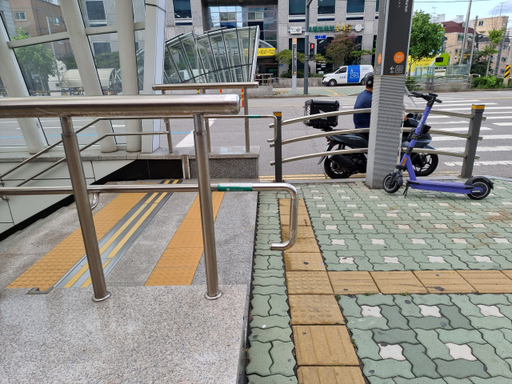guide_blocks: (280, 197, 364, 384), (142, 187, 223, 287), (282, 267, 512, 296), (9, 255, 75, 288)
